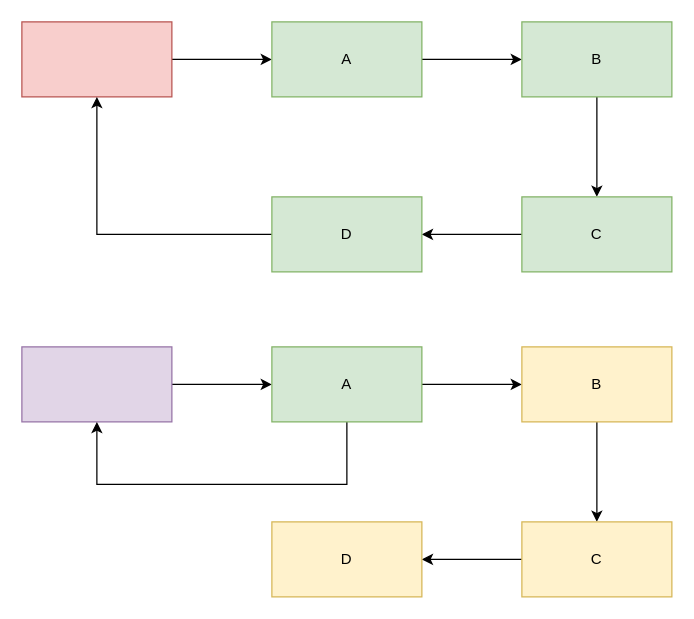
This 694x619 diagram has some shape labels left out. Here are the shapes that lost their labels. From the top down, the centre of each, then its label:
the point at 96,59: 同步
the point at 96,384: 异步
